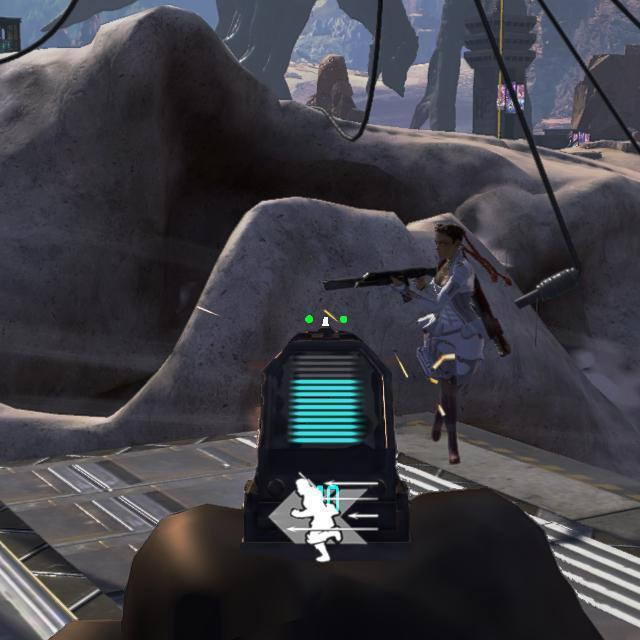avatar: (413, 220, 490, 467)
